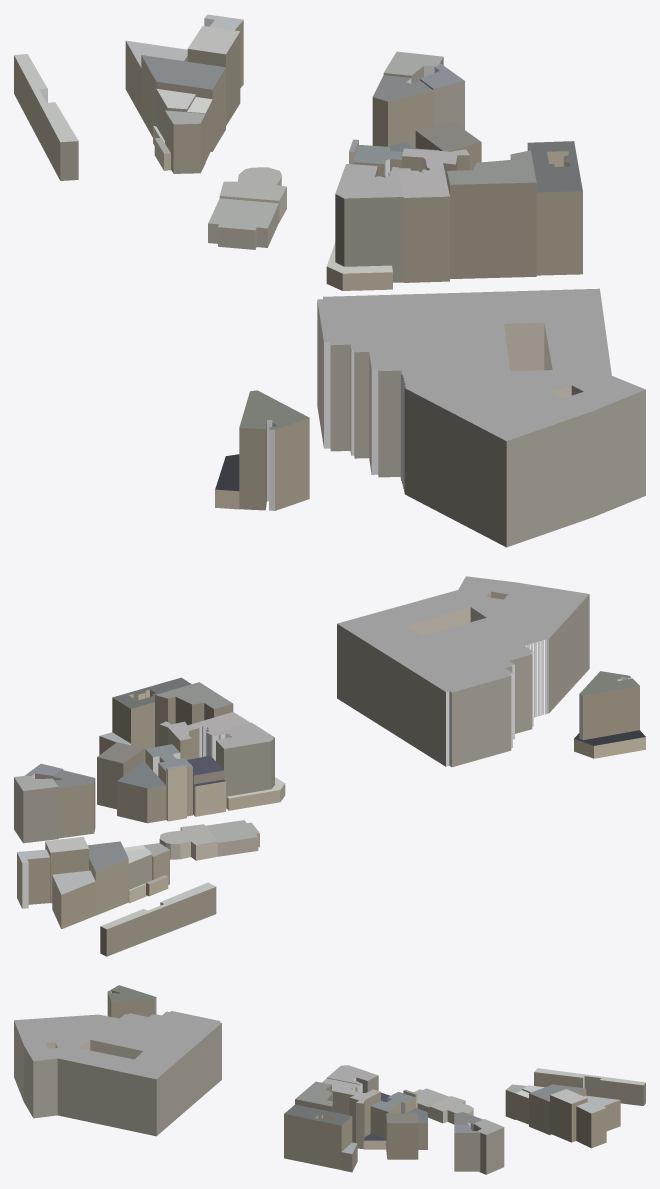
The picture shows the model from 3 angles, top to bottom: view 1: azimuth 30°, elevation 25°; view 2: azimuth 150°, elevation 25°; view 3: azimuth 270°, elevation 25°; orthographic projection. The views are drawn at different scales.
Parts seen in each view (by area): view 1: tuile; view 2: tuile; view 3: tuile.
Part boxes in pixels (left/top/right/bottom): tuile: left=14, top=14, right=645, bottom=547; tuile: left=14, top=576, right=645, bottom=956; tuile: left=14, top=985, right=645, bottom=1174.
Size of the model in its own units: 174 by 31.48 by 312.
